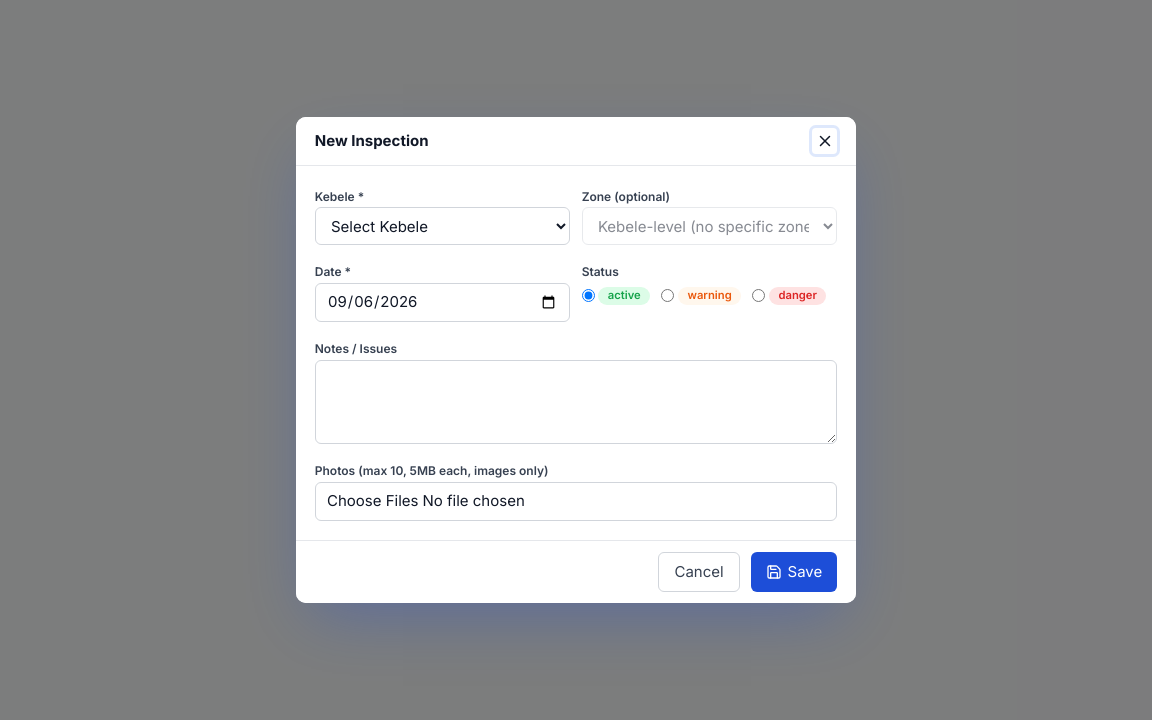
Scenario: Inspection form validation (real component) › requires kebele and date
The image size is (1152, 720).
Note: Try save without kebele
Click the button "Save" at (794, 572), box [751, 552, 837, 592]
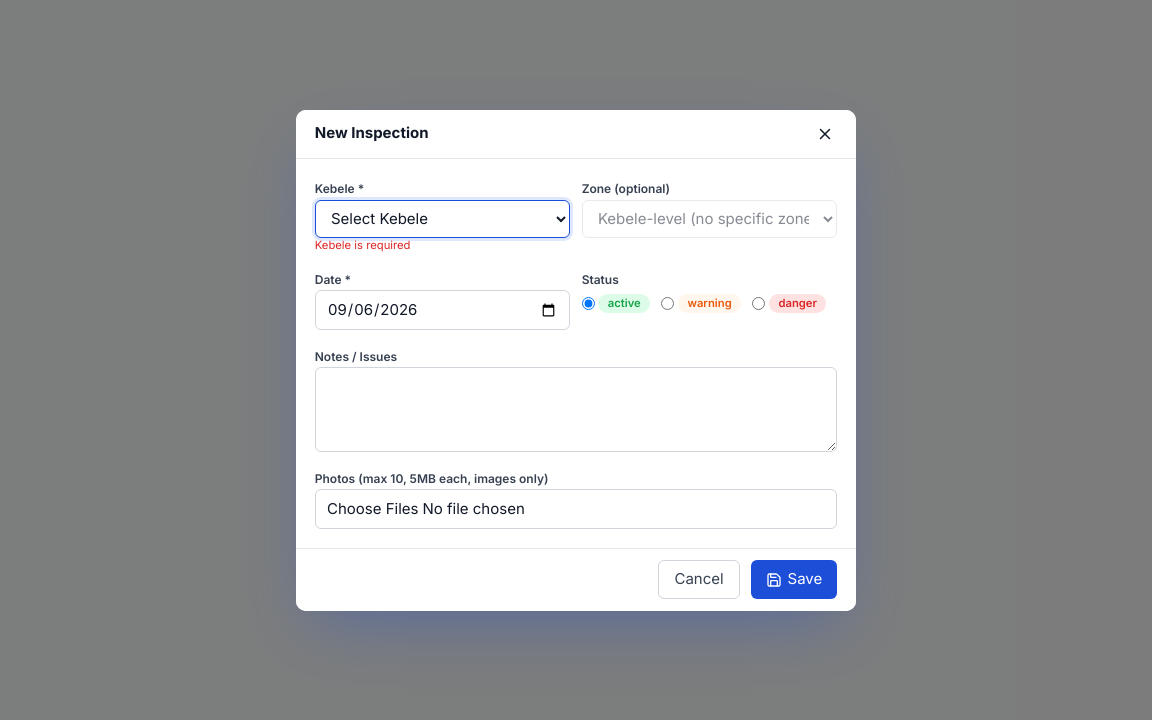
Now the text "Kebele is required" is shown, box [315, 238, 411, 252]
